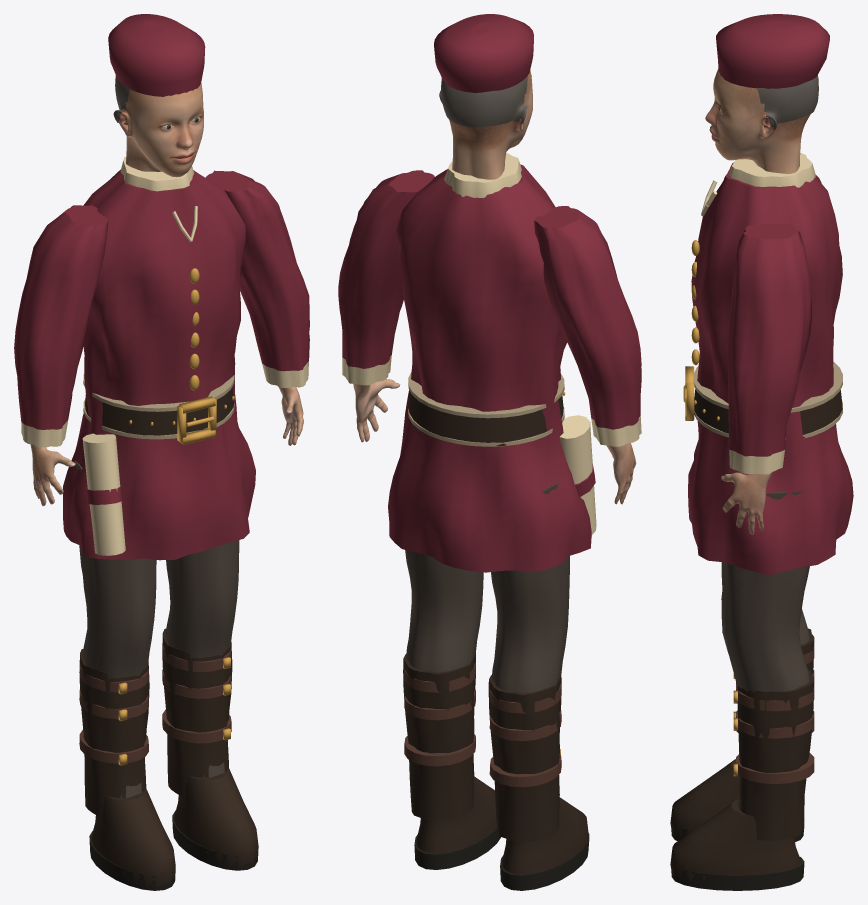
The model's file is intendant.glb.
3 views of the same model, side by side, from view 1: azimuth 30°, elevation 25°; view 2: azimuth 150°, elevation 25°; view 3: azimuth 270°, elevation 25° (orthographic). The views are drawn at different scales.
Parts seen in each view (by area): view 1: intendant_Maillage, intendant_JambeG, intendant_JambeD, intendant_BrasG, intendant_BrasD, intendant_Tete; view 2: intendant_Maillage, intendant_JambeG, intendant_JambeD, intendant_BrasG, intendant_BrasD, intendant_Tete, intendant_Coiffure; view 3: intendant_Maillage, intendant_JambeD, intendant_BrasD, intendant_Tete, intendant_JambeG, intendant_Coiffure.
Boxes of the visible parts, x1,y1,x2,y2 form: intendant_Maillage: (63,14,255,560); intendant_JambeG: (75,461,175,890); intendant_JambeD: (162,540,258,870); intendant_BrasG: (14,205,108,506); intendant_BrasD: (205,170,309,445); intendant_Tete: (118,82,203,177); intendant_Maillage: (388,14,596,572); intendant_JambeG: (488,484,589,890); intendant_JambeD: (403,550,500,869); intendant_BrasG: (534,206,641,504); intendant_BrasD: (338,170,434,442); intendant_Tete: (449,70,532,179); intendant_Coiffure: (439,76,527,127); intendant_Maillage: (683,14,853,575); intendant_JambeD: (670,490,814,890); intendant_BrasD: (721,224,812,534); intendant_Tete: (705,69,810,173); intendant_JambeG: (670,562,814,841); intendant_Coiffure: (757,75,818,130).
Size of the model in its own units: 0.6665 by 1.83 by 0.3648.
13 materials, 1 textured.
